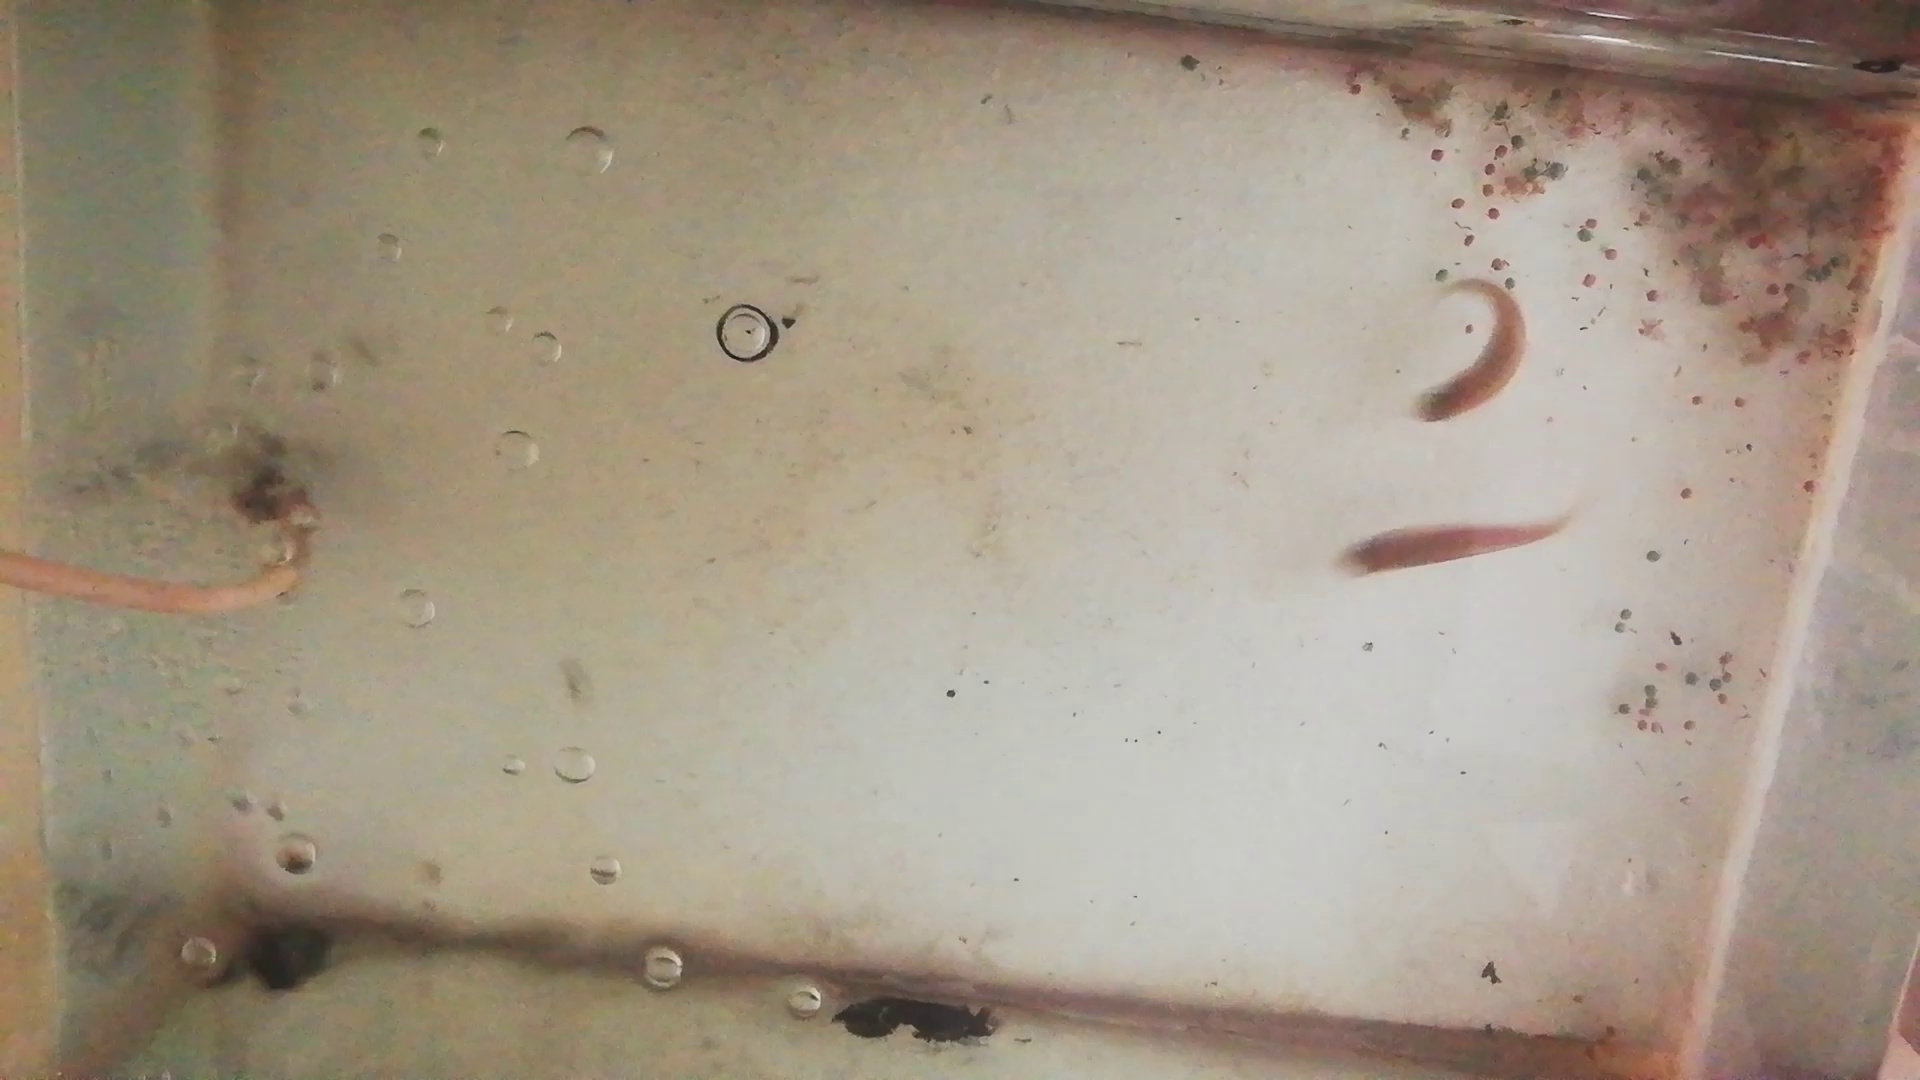fish: (1415, 282, 1532, 425), (1331, 514, 1560, 582)
